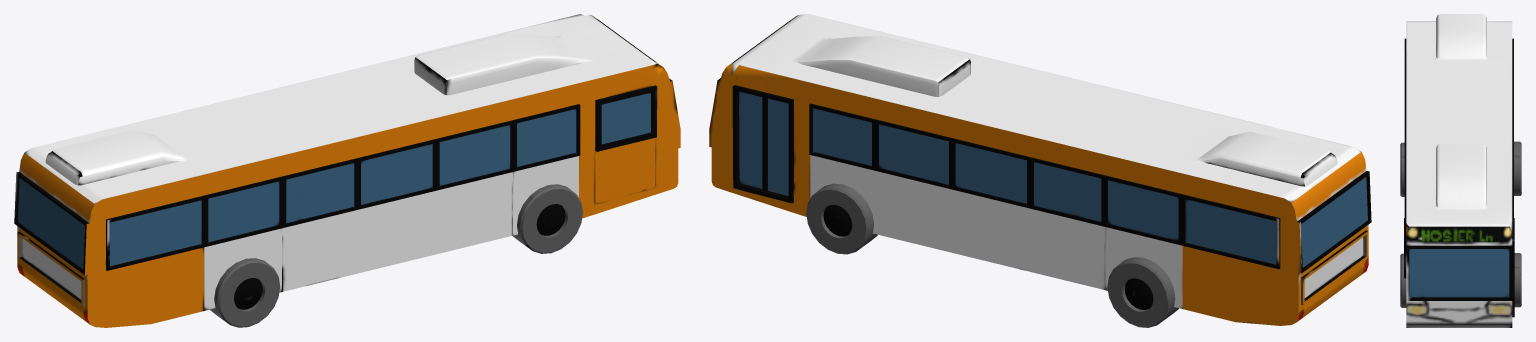
The model's file is Bus_hero_model_01.fbx.
The picture shows the model from 3 angles, left to right: view 1: azimuth 30°, elevation 25°; view 2: azimuth 150°, elevation 25°; view 3: azimuth 270°, elevation 25°; orthographic projection. The views are drawn at different scales.
Visible parts, largest first — view 1: polySurface15; view 2: polySurface15; view 3: polySurface15.
Boxes of the visible parts, x1,y1,x2,y2 form: polySurface15: (14,14,680,327); polySurface15: (709,14,1371,327); polySurface15: (1400,14,1521,327).
Bounding box in the file's own units: 1258 × 357 × 295.
1 material, 1 textured.
